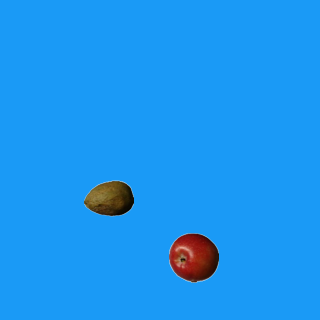Apple Braeburn: (168, 232, 218, 282)
Papaya: (83, 173, 133, 223)
